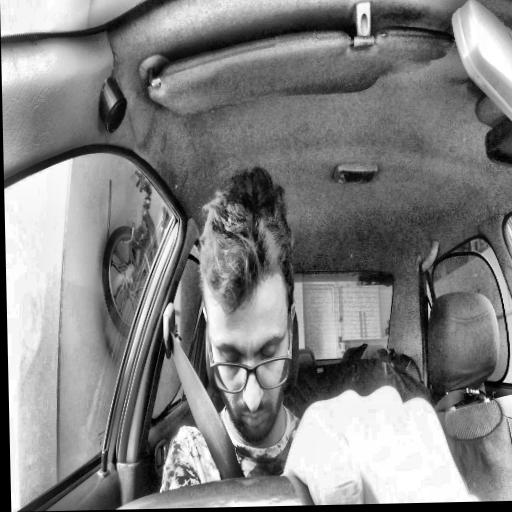drowsy: (199, 167, 299, 448)
